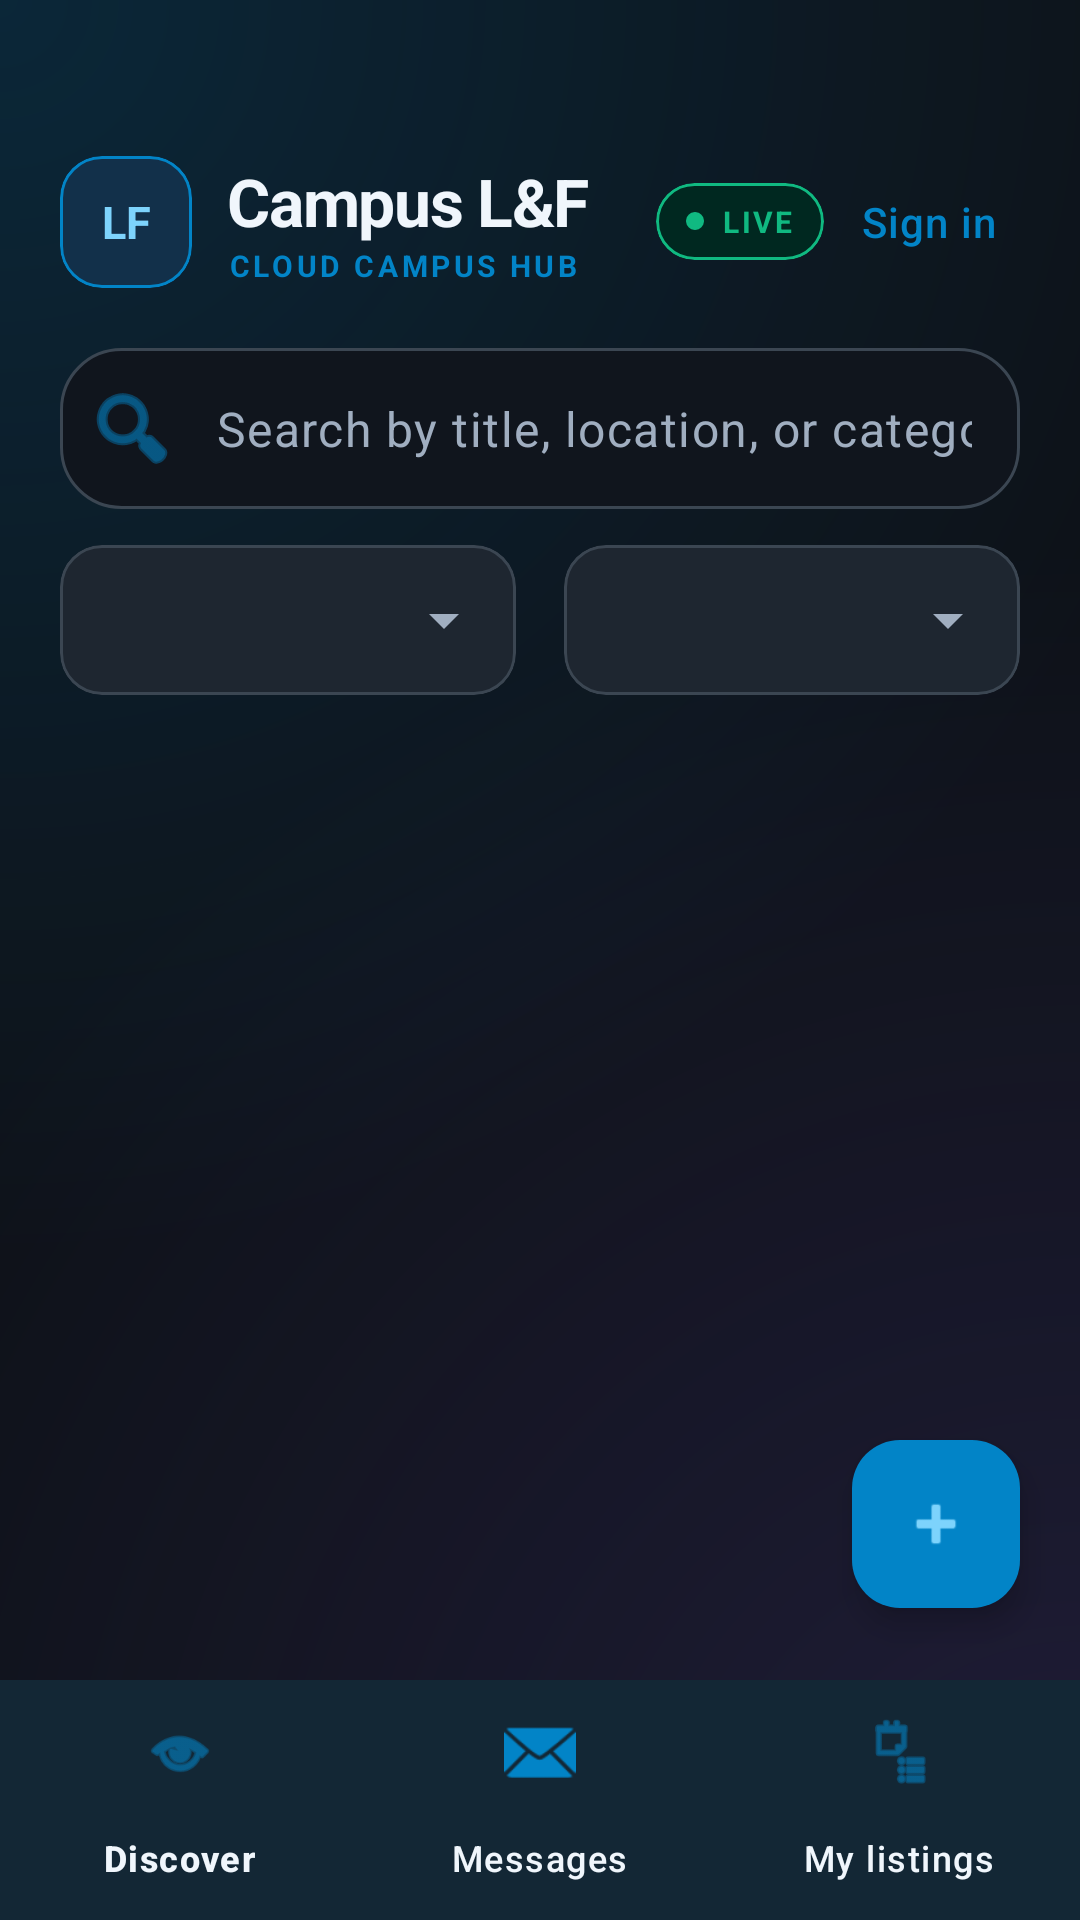

Icon click points for this 1080w x 1920h phone screenshot, format (x,y):
Add Item: (936,1524)
